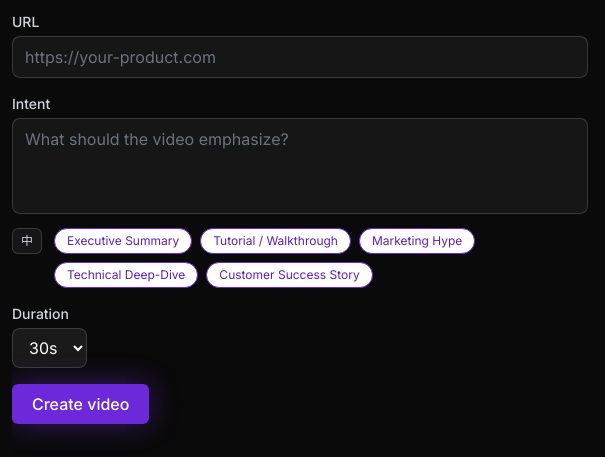
JobForm › renders a language toggle button and switches chip labels + tooltips
Check: the button "Executive Summary" is shown, box [54,228,192,254]
Click the button named "toggle preset language" at (27, 241), box [12,228,42,254]
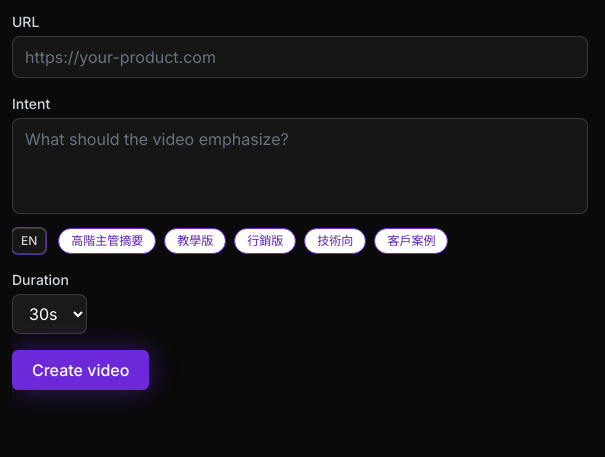
Check: the button "高階主管摘要" is shown, box [58,228,156,254]
Check: the button "Executive Summary" is gone
